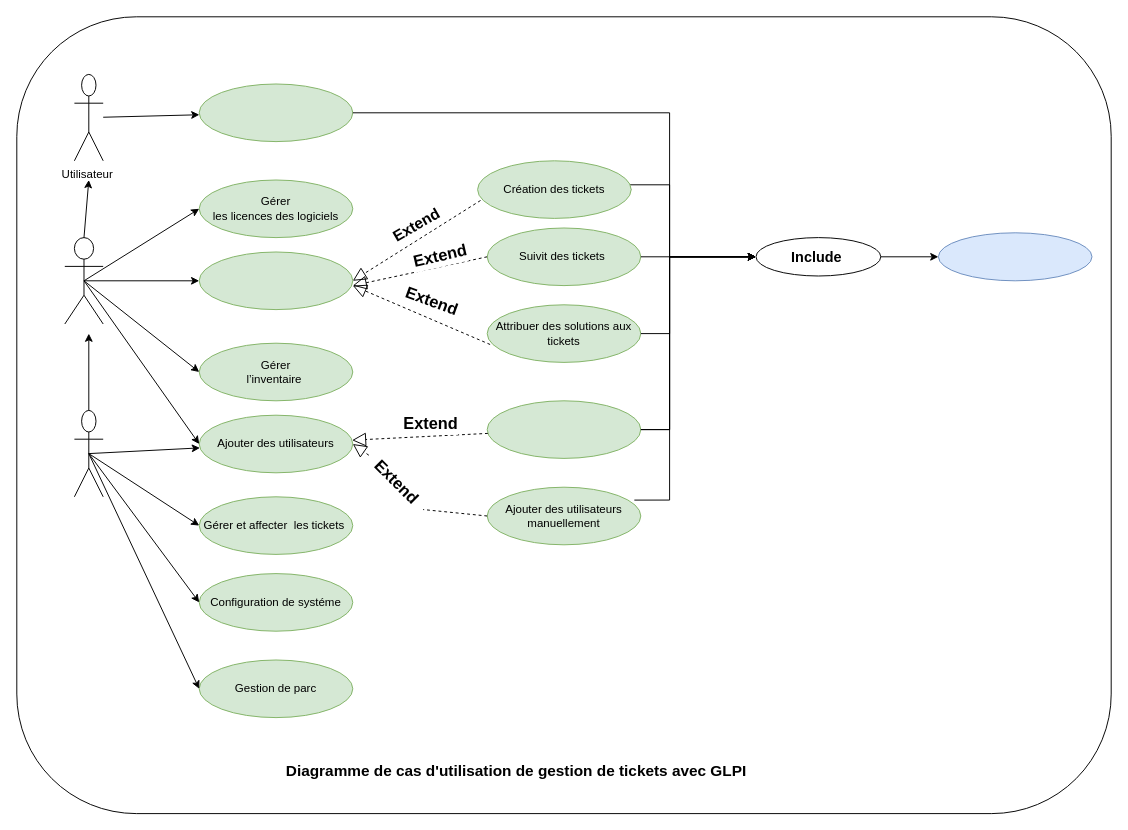
Some shapes in this 1128 by 830 pixel diagram are drawn without their labels. The shapes that lost their labels are listed below. From the top down, each one's centre as x and y in pixels, then its label:
At (275,112): "Création et suivi des tickets.".
At (1014,256): "Authentifier".
At (83,280): "Technicien".
At (275,280): "Gestion des tickets".
At (563,429): "Ajouter des utilisateur avec l'annuaaire LDAP".
At (88,453): "Administrateur".
